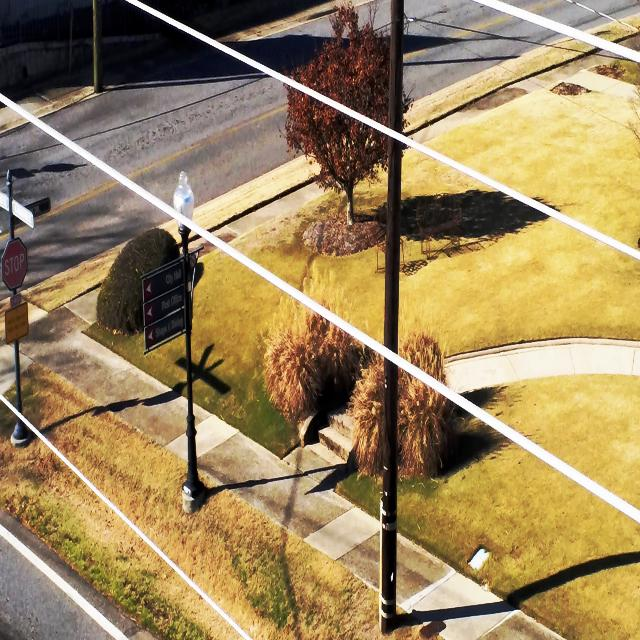poles: (380, 360, 398, 633), (384, 139, 402, 352), (388, 0, 404, 132)
wires: (0, 94, 640, 524), (127, 0, 640, 260), (0, 394, 250, 640), (474, 0, 640, 64), (16, 359, 21, 405)
